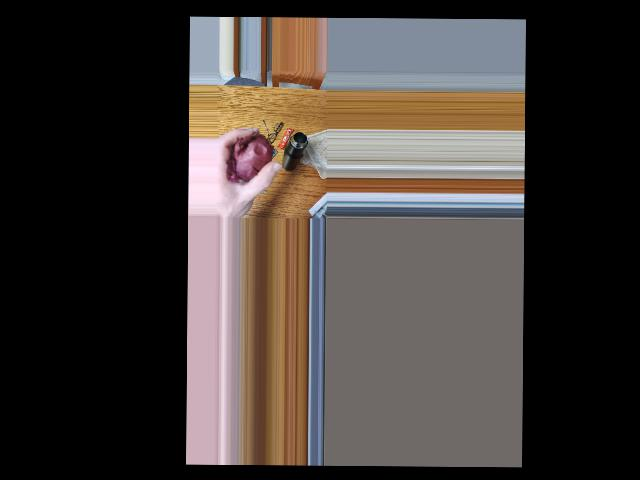onion: (228, 127, 266, 186)
